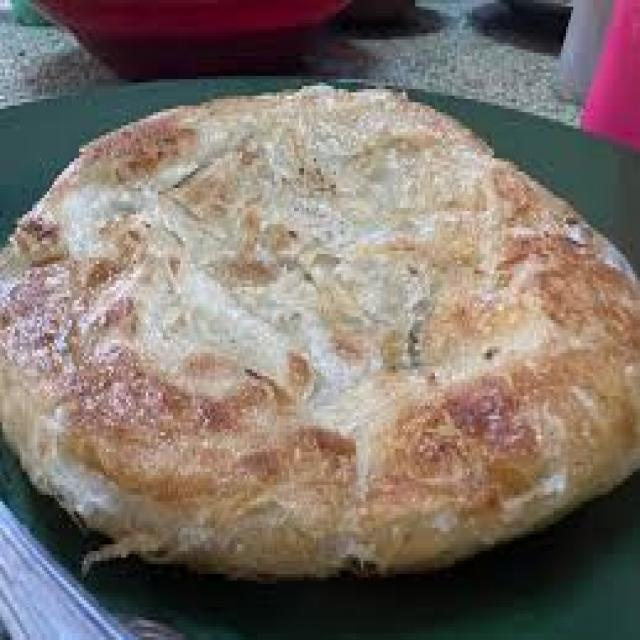Paratha: (4, 109, 640, 552)
